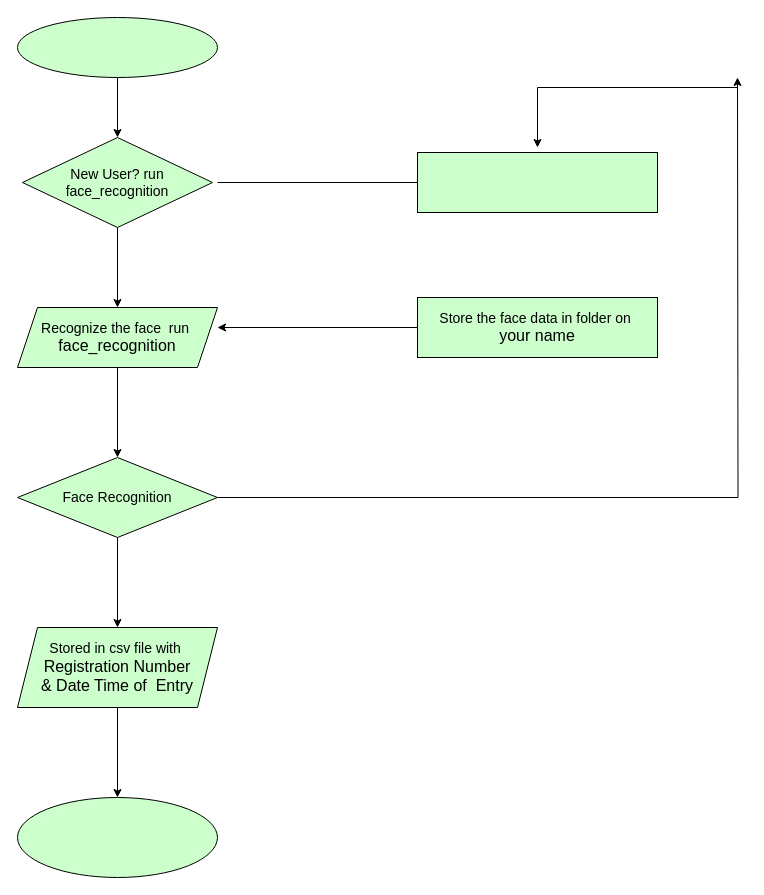
Some shapes in this 764 by 895 pixel diagram are drawn without their labels. The centre of each missing label's shape, as x and y in pixels:
End: the point at 117,837
Give your photograph: the point at 537,182
Start: the point at 117,47
